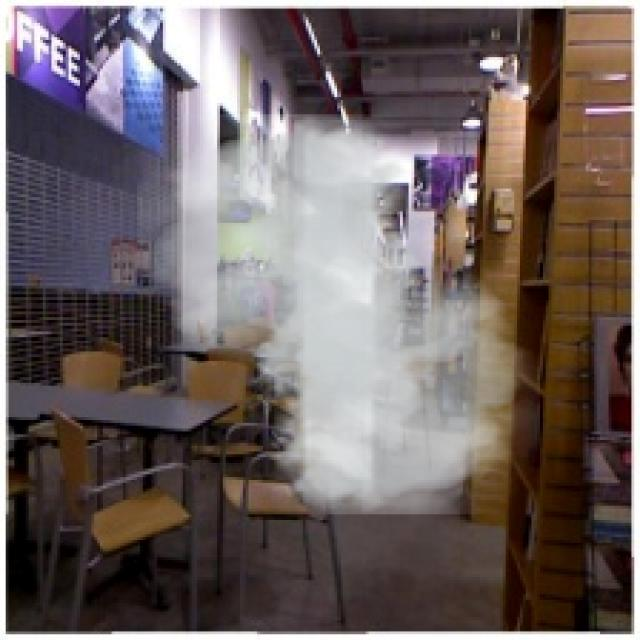Smoke: (137, 115, 540, 515)
